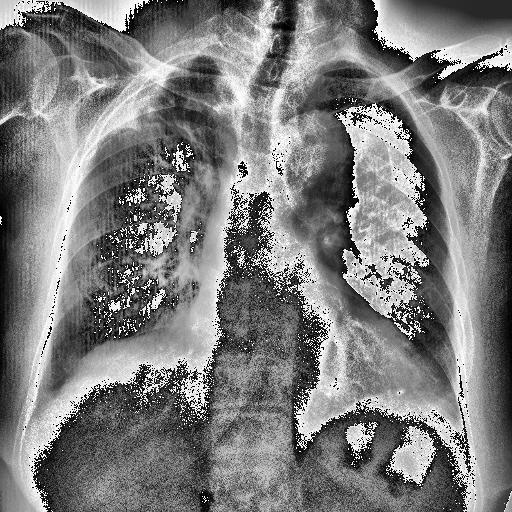0- Aortic enlargement: (208, 101, 358, 244), (213, 104, 362, 210)
1- Atelectasis: (84, 42, 248, 176)
11- Pleural thickening: (84, 42, 248, 176), (108, 59, 170, 142), (416, 385, 480, 454)
13- Pulmonary fibrosis: (84, 42, 248, 176), (86, 52, 242, 152), (142, 84, 204, 166)
2- Calcification: (142, 84, 204, 166), (376, 376, 422, 406)
3- Cardiomegaly: (168, 278, 456, 418)
5- ILD: (86, 52, 242, 152)
